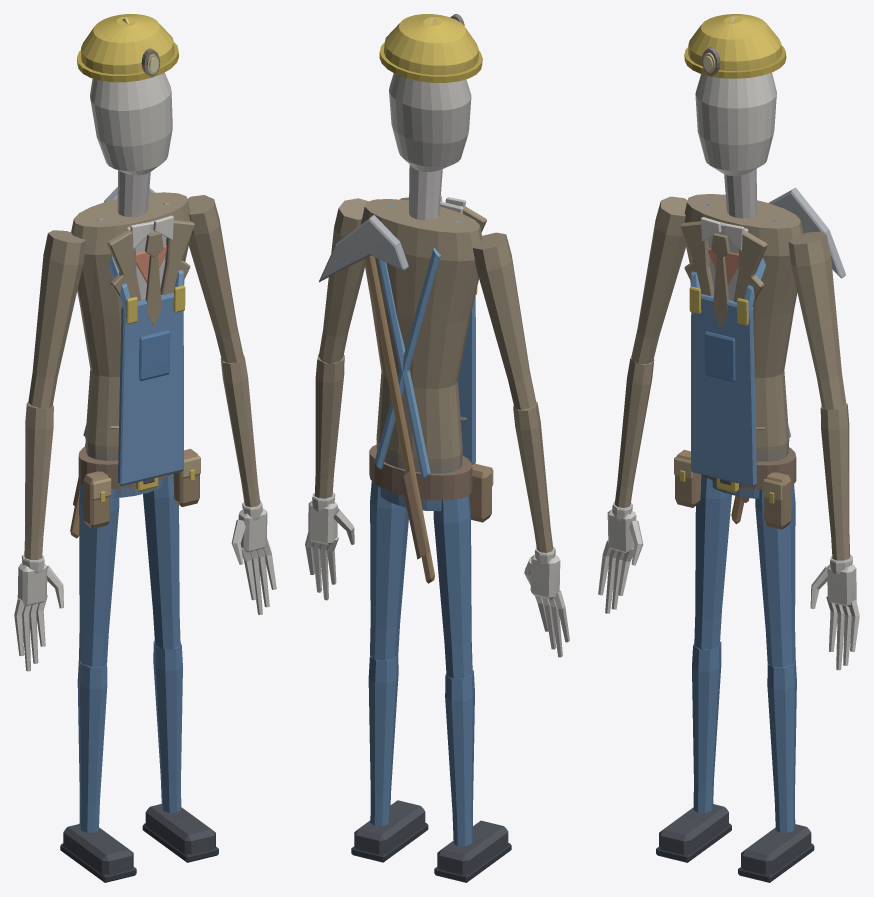
Rendered from SlendermanMiner.glb.
The picture shows the model from 3 angles, left to right: view 1: azimuth 30°, elevation 25°; view 2: azimuth 150°, elevation 25°; view 3: azimuth 330°, elevation 25°; orthographic projection.
Parts seen in each view (by area): view 1: Body, ArmR, Head, LegR, LegL, ArmL; view 2: Body, LegR, LegL, Head, ArmR, ArmL; view 3: Body, ArmL, Head, LegL, LegR, ArmR.
Part boxes in pixels (x1,y1,x2,y2): Body: (70,170,200,538); ArmR: (14,230,86,671); Head: (77,14,178,175); LegR: (60,484,136,882); LegL: (142,474,218,862); ArmL: (187,195,276,614); Body: (319,165,493,583); LegR: (433,495,511,882); LegL: (351,481,428,862); Head: (379,14,482,171); ArmR: (472,232,569,657); ArmL: (305,198,368,600); Body: (674,169,845,529); ArmL: (788,231,859,670); Head: (684,14,786,175); LegL: (738,484,814,882); LegR: (656,474,731,862); ArmR: (598,196,687,613).
Bounding box in the file's own units: 2.68 × 8.31 × 1.08.
